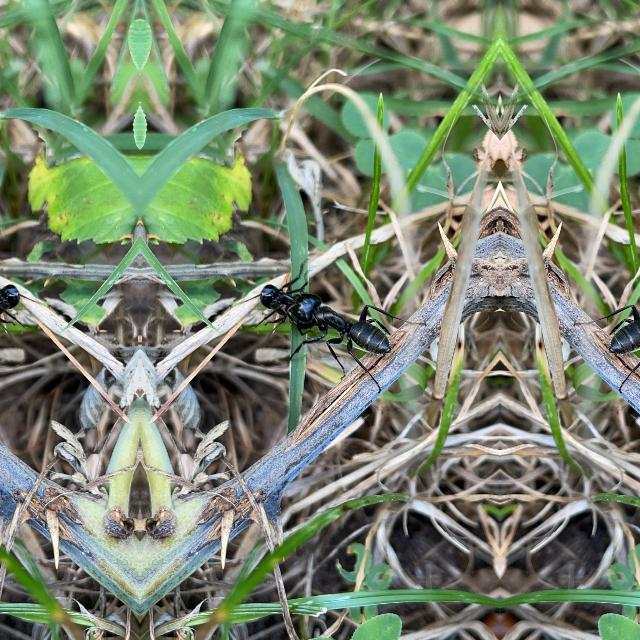Camponotus: (284, 258, 402, 388), (598, 258, 640, 387), (255, 264, 321, 344), (0, 262, 24, 343)
